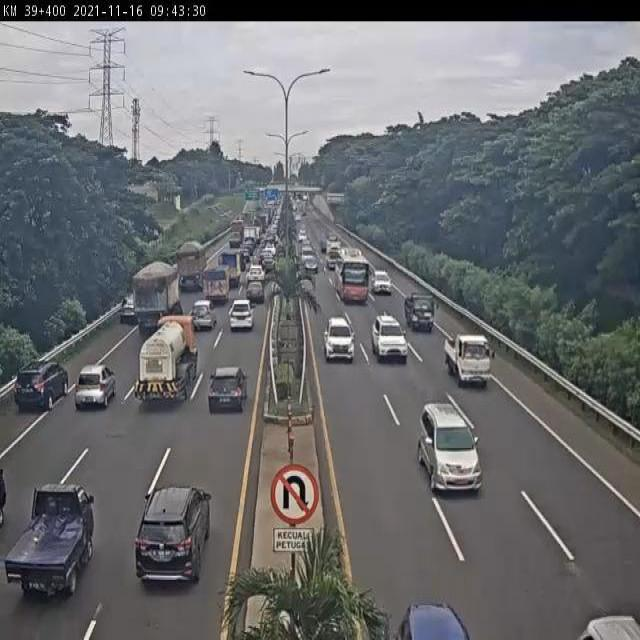big bus: (334, 244, 369, 303)
car: (6, 482, 96, 606), (135, 485, 211, 588), (419, 405, 481, 491), (14, 357, 69, 416), (444, 331, 494, 386), (70, 363, 115, 413), (205, 366, 248, 418), (371, 312, 407, 363), (402, 288, 438, 332), (324, 318, 353, 358), (187, 302, 217, 338), (228, 304, 253, 340), (116, 293, 140, 327), (244, 280, 266, 309), (371, 267, 391, 296)
small truck: (200, 263, 229, 308)
truck-m-: (135, 312, 201, 409), (130, 262, 180, 338), (173, 241, 208, 295)
